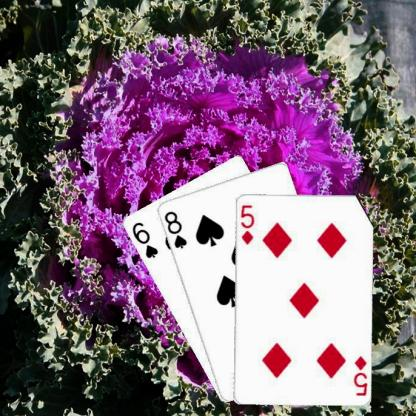5D: (351, 353, 368, 397), (238, 202, 255, 245)
6S: (128, 219, 159, 259)
8S: (161, 208, 188, 250)
